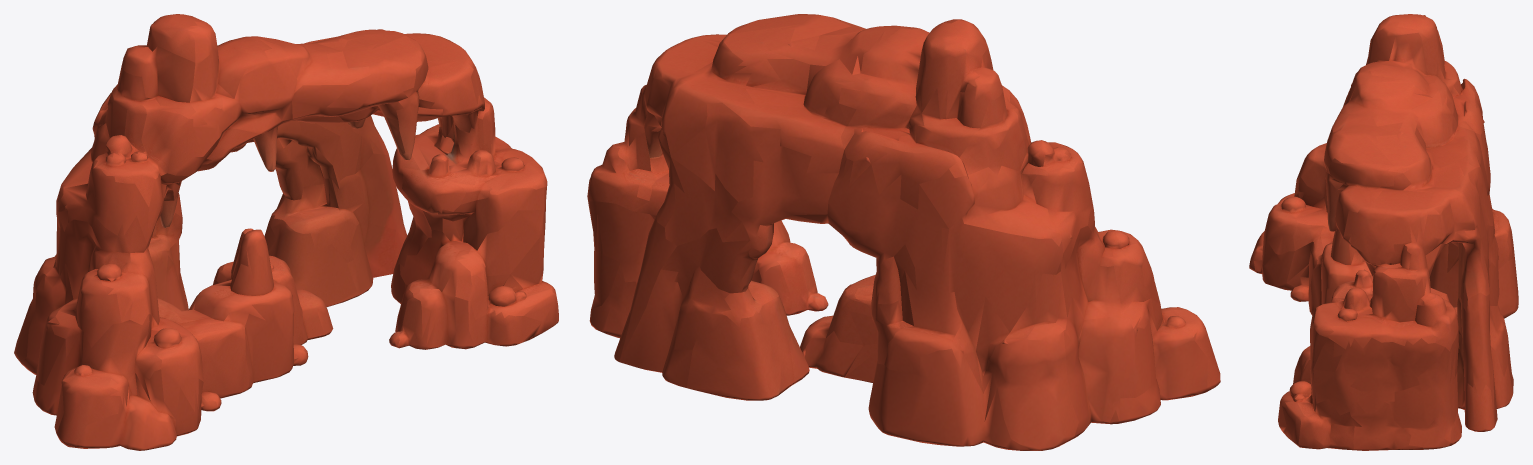
The model's file is canyon-cave.glb.
3 views of the same model, side by side, from view 1: azimuth 30°, elevation 25°; view 2: azimuth 150°, elevation 25°; view 3: azimuth 270°, elevation 25° (orthographic). The views are drawn at different scales.
Size of the model in its own units: 1.9 by 1.21 by 0.9879.
1 material, 1 textured.
